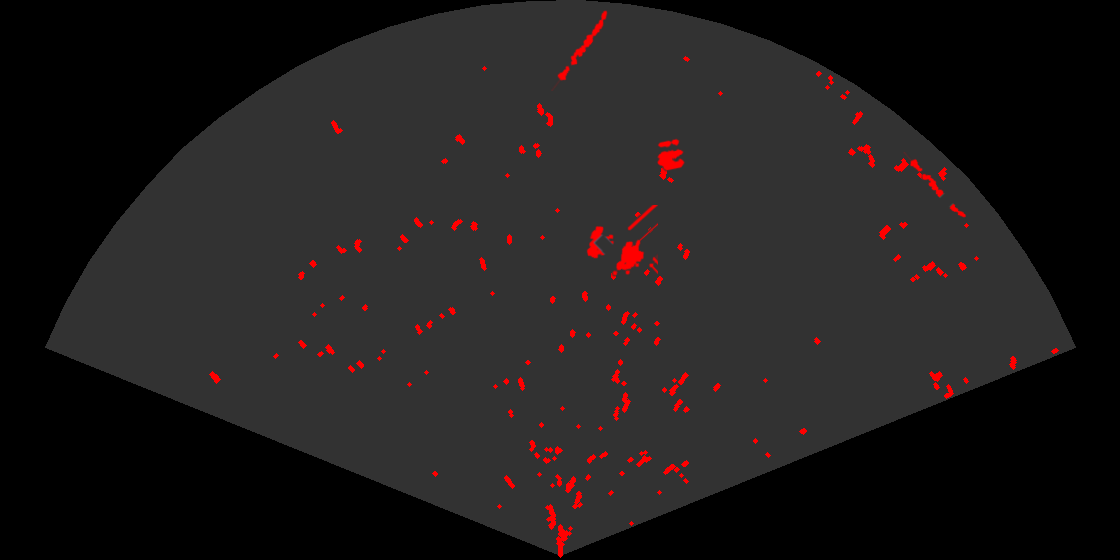ball: (656, 137, 686, 172)
cage: (585, 205, 658, 277)
chain: (551, 9, 609, 91), (902, 152, 968, 219)
